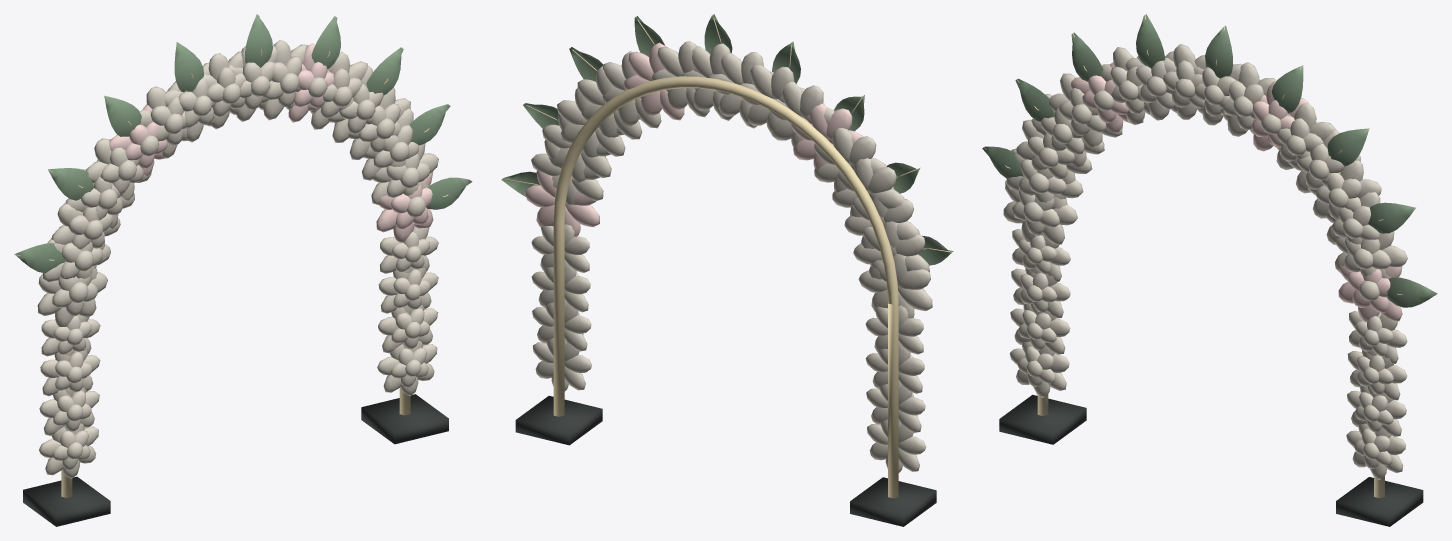
Rendered from floral-arch.glb.
3 renders of one model, left to right at view 1: azimuth 30°, elevation 25°; view 2: azimuth 150°, elevation 25°; view 3: azimuth 330°, elevation 25°, orthographic.
Parts seen in each view (by area): view 1: petals-6, leaf-4, heart-3, feet-1, petals-2, arch-frame-0; view 2: petals-6, arch-frame-0, petals-2, feet-1, leaf-4; view 3: petals-6, leaf-4, heart-3, feet-1, petals-2.
Part boxes in pixels (box(x1,y1,x2,y2)): petals-6: box(37, 40, 438, 478); leaf-4: box(14, 14, 472, 273); heart-3: box(66, 73, 425, 459); feet-1: box(23, 394, 448, 526); petals-2: box(109, 43, 433, 242); arch-frame-0: box(61, 387, 410, 497); petals-6: box(531, 41, 932, 472); arch-frame-0: box(553, 76, 898, 498); petals-2: box(524, 42, 863, 236); feet-1: box(515, 395, 936, 526); leaf-4: box(501, 14, 953, 265); petals-6: box(1003, 44, 1407, 479); leaf-4: box(982, 14, 1437, 307); heart-3: box(1023, 76, 1379, 459); feet-1: box(999, 394, 1423, 526); petals-2: box(1071, 62, 1402, 322).
Bounding box in the file's own units: 3.77 × 3.57 × 0.48.
